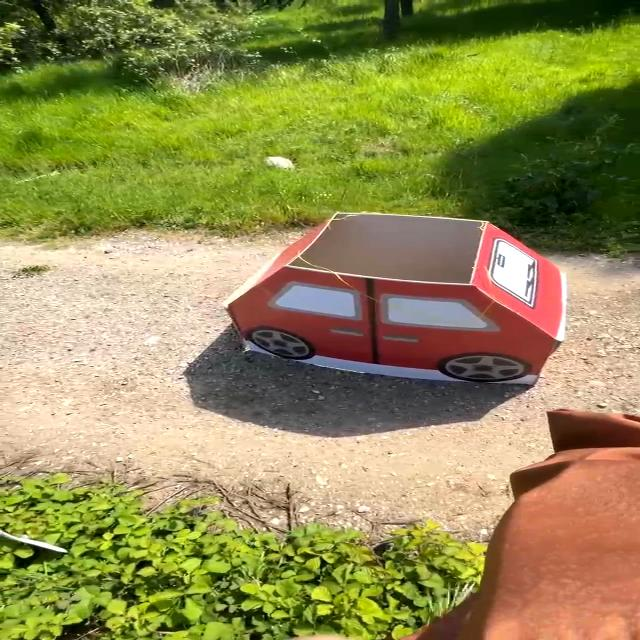red_car: (203, 207, 614, 407)
